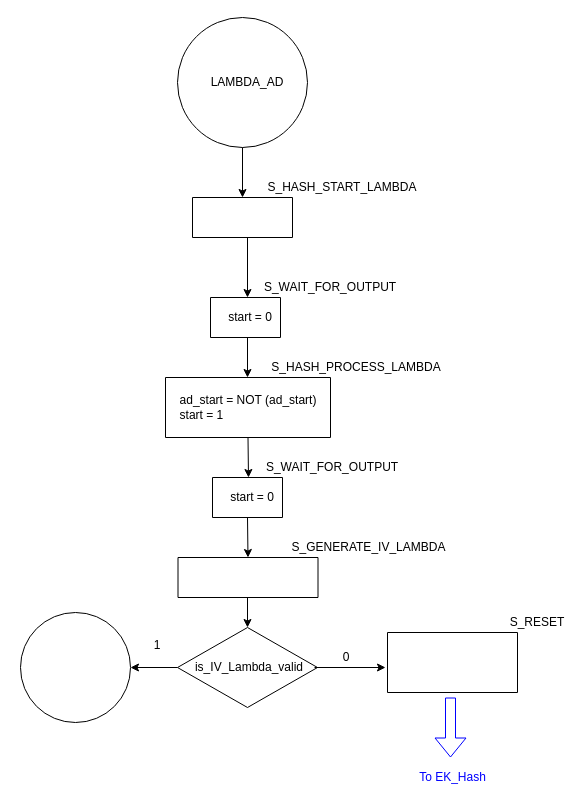
The diagram is 582 pixels wide and 805 high, and some of its shapes have lost their labels. The centre of each missing label's shape, as x and y in pixels:
ad_start = 0 pt_ct_start = 0: point (452, 662)
ad_start = 1 start = 1: point (242, 217)
IV_Lambda_valid: point (75, 667)
